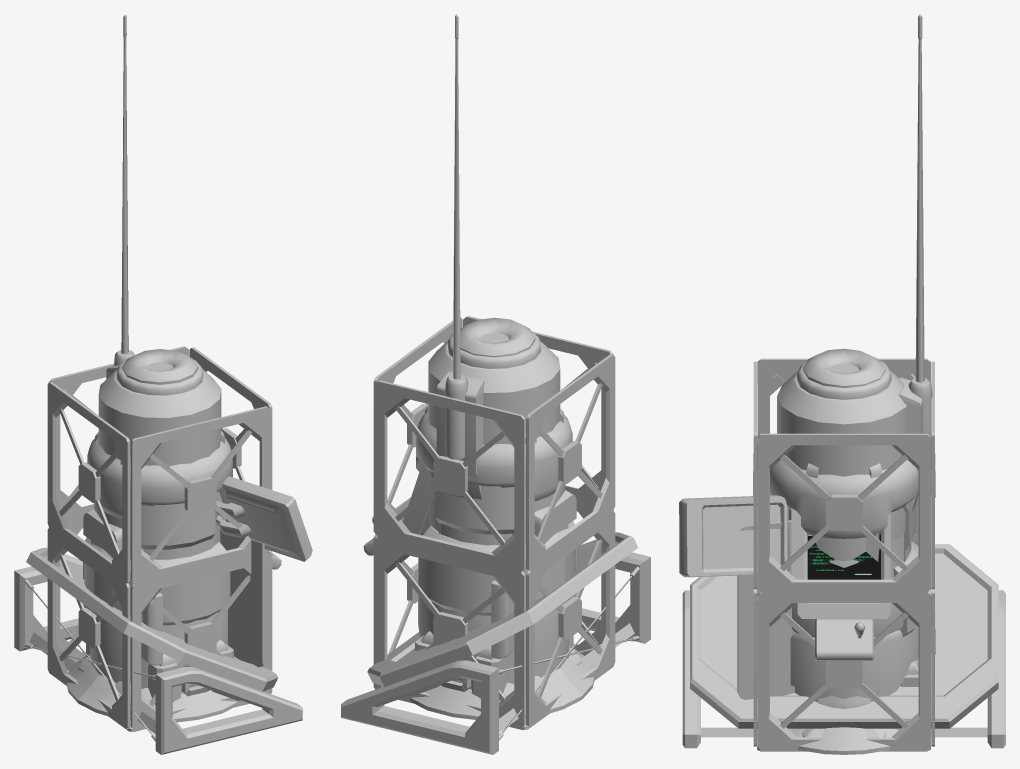
File: Sci-Fi_Props.fbx
The picture shows the model from 3 angles, left to right: view 1: azimuth 30°, elevation 25°; view 2: azimuth 150°, elevation 25°; view 3: azimuth 270°, elevation 25°; orthographic projection. The views are drawn at different scales.
Visible parts, largest first — view 1: frameContainer_A, solarPanel_A, aerial_A, cylinderContainer_A, terminal_B, deflector_A, cabinet_C, cylinderContainer_B, supplyBox_A, terminal_A, supplyBox_B; view 2: frameContainer_A, solarPanel_A, aerial_A, cylinderContainer_A, deflector_A, terminal_B, supplyBox_A, terminal_A, supplyBox_B, cylinderContainer_B; view 3: frameContainer_A, solarPanel_A, aerial_A, terminal_B, cylinderContainer_A, deflector_A, cabinet_C, cylinderContainer_B.
Boxes of the visible parts, bbox=[...] form: frameContainer_A: bbox=[47, 346, 272, 730]; solarPanel_A: bbox=[14, 547, 302, 754]; aerial_A: bbox=[98, 14, 221, 559]; cylinderContainer_A: bbox=[84, 430, 232, 688]; terminal_B: bbox=[78, 476, 312, 698]; deflector_A: bbox=[67, 608, 238, 722]; cabinet_C: bbox=[220, 519, 264, 667]; cylinderContainer_B: bbox=[95, 432, 232, 548]; supplyBox_A: bbox=[86, 639, 233, 704]; terminal_A: bbox=[83, 508, 122, 558]; supplyBox_B: bbox=[83, 562, 162, 665]; frameContainer_A: bbox=[373, 316, 615, 728]; solarPanel_A: bbox=[341, 532, 650, 754]; aerial_A: bbox=[428, 14, 560, 545]; cylinderContainer_A: bbox=[416, 407, 575, 683]; deflector_A: bbox=[410, 577, 594, 719]; terminal_B: bbox=[363, 463, 582, 694]; supplyBox_A: bbox=[415, 631, 573, 701]; terminal_A: bbox=[534, 490, 576, 544]; supplyBox_B: bbox=[491, 548, 577, 659]; cylinderContainer_B: bbox=[421, 408, 572, 535]; frameContainer_A: bbox=[753, 358, 935, 749]; solarPanel_A: bbox=[682, 544, 1005, 748]; aerial_A: bbox=[777, 14, 932, 702]; terminal_B: bbox=[679, 495, 890, 738]; cylinderContainer_A: bbox=[770, 459, 918, 708]; deflector_A: bbox=[790, 626, 918, 754]; cabinet_C: bbox=[737, 520, 794, 699]; cylinderContainer_B: bbox=[772, 459, 902, 634].
Size of the model in its own units: 161 by 523 by 216.
